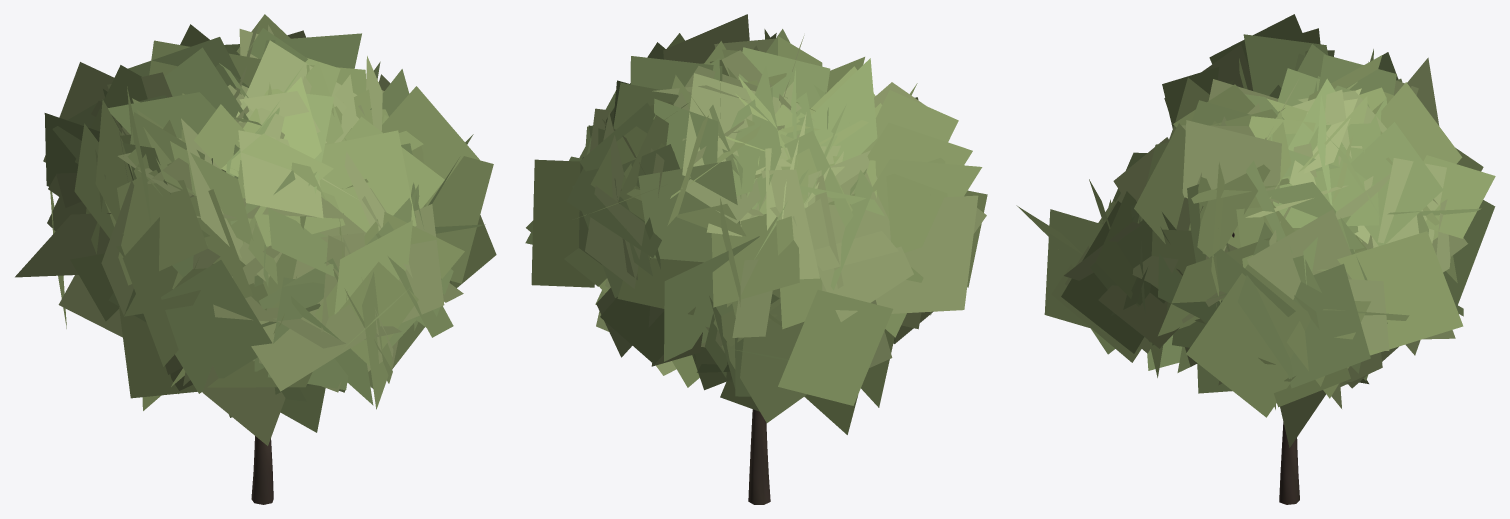
The model's file is robinia_1.glb.
3 views of the same model, side by side, from view 1: azimuth 30°, elevation 25°; view 2: azimuth 150°, elevation 25°; view 3: azimuth 270°, elevation 25° (orthographic). The views are drawn at different scales.
Parts seen in each view (by area): view 1: robinia_1; view 2: robinia_1; view 3: robinia_1.
Part boxes in pixels (<box>): robinia_1: <box>15,14,496,504</box>; robinia_1: <box>525,14,987,504</box>; robinia_1: <box>1016,14,1495,504</box>.
Size of the model in its own units: 0.9779 by 1 by 1.
